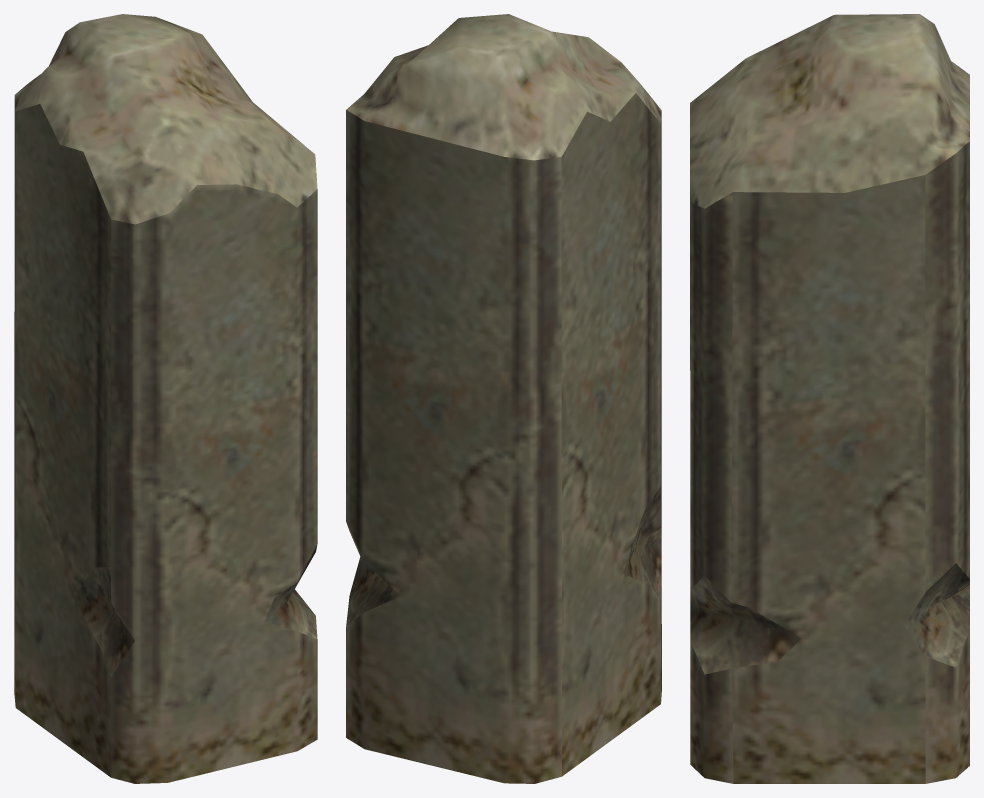
The model's file is Scene_Build_TaZiShaMo_PoSunJianZhu_2.FBX.
3 views of the same model, side by side, from view 1: azimuth 30°, elevation 25°; view 2: azimuth 150°, elevation 25°; view 3: azimuth 270°, elevation 25° (orthographic). The views are drawn at different scales.
Parts seen in each view (by area): view 1: Scene_Build_TaZiShaMo_PoSunJianZhu_2; view 2: Scene_Build_TaZiShaMo_PoSunJianZhu_2; view 3: Scene_Build_TaZiShaMo_PoSunJianZhu_2.
Part boxes in pixels (x1=…): Scene_Build_TaZiShaMo_PoSunJianZhu_2: x1=14, y1=14, x2=317, y2=783; Scene_Build_TaZiShaMo_PoSunJianZhu_2: x1=346, y1=14, x2=661, y2=783; Scene_Build_TaZiShaMo_PoSunJianZhu_2: x1=690, y1=14, x2=969, y2=783.
Size of the model in its own units: 134 by 416 by 151.
